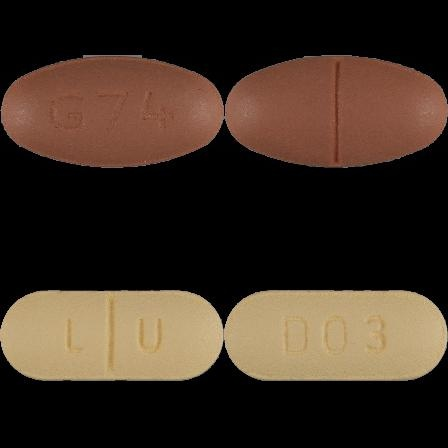51655-956: (0, 0, 224, 224)
